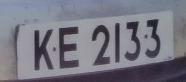1: (111, 17, 125, 69)
2: (89, 21, 114, 70)
3: (142, 15, 164, 63), (123, 16, 144, 65)
E: (54, 23, 81, 73)
K: (29, 24, 59, 76)
